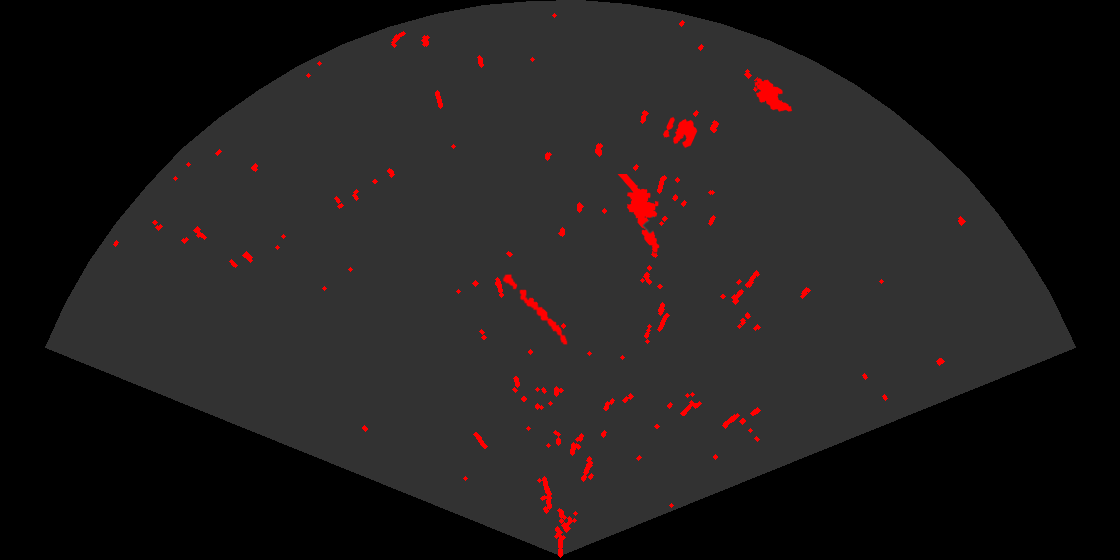AUV: (753, 77, 794, 113)
ball: (661, 116, 699, 150)
chain: (501, 272, 569, 347)
frogman: (616, 174, 661, 254)
